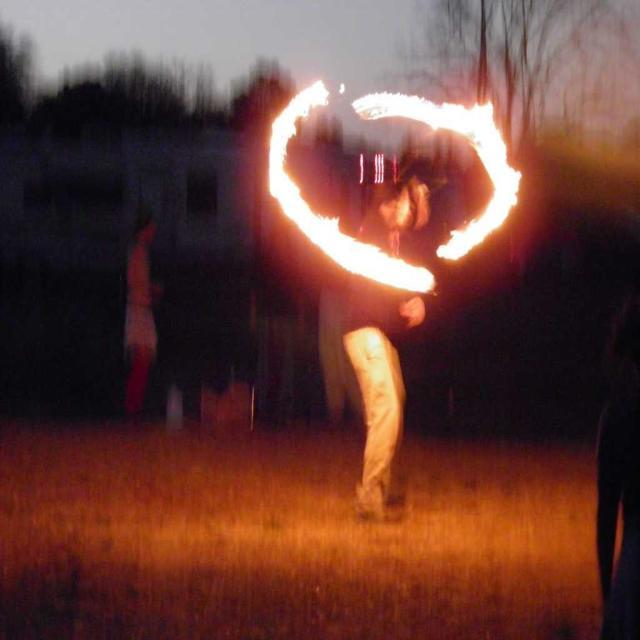Fire: (353, 90, 478, 122), (351, 240, 415, 288), (487, 126, 518, 204), (270, 118, 296, 207), (296, 76, 330, 106)
